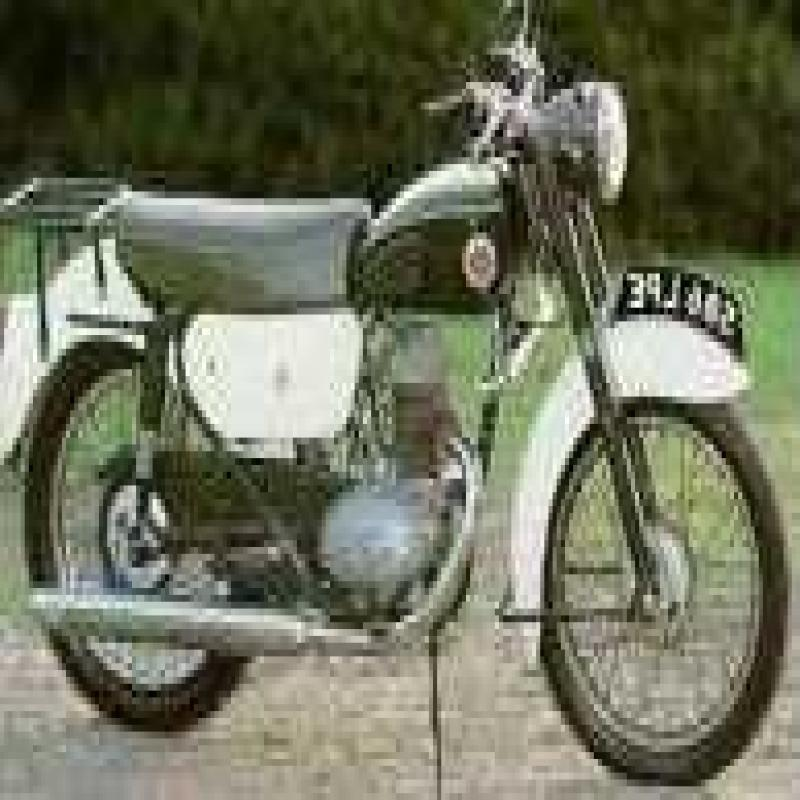bike: (5, 14, 778, 788)
